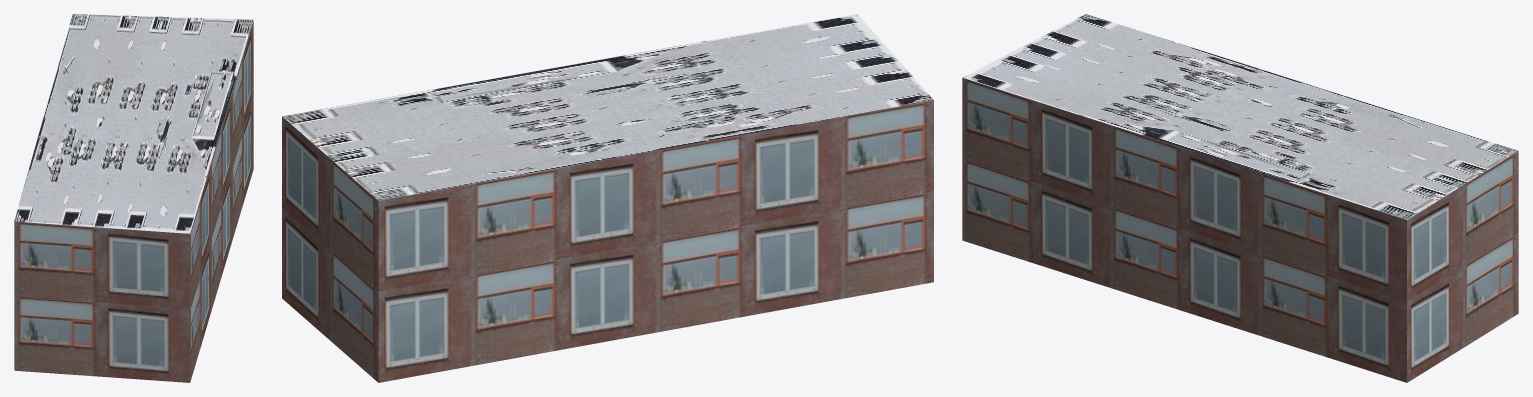
File: ResTex__1073.fbx
3 views of the same model, side by side, from view 1: azimuth 30°, elevation 25°; view 2: azimuth 150°, elevation 25°; view 3: azimuth 270°, elevation 25° (orthographic). The views are drawn at different scales.
Visible parts, largest first — view 1: CityEngineMaterial_15_m, CityEngineMaterial_19_m; view 2: CityEngineMaterial_19_m, CityEngineMaterial_15_m; view 3: CityEngineMaterial_19_m, CityEngineMaterial_15_m.
Boxes of the visible parts, <box> form: CityEngineMaterial_15_m: <box>14,14,253,233</box>; CityEngineMaterial_19_m: <box>14,21,253,382</box>; CityEngineMaterial_19_m: <box>282,100,933,382</box>; CityEngineMaterial_15_m: <box>282,14,933,200</box>; CityEngineMaterial_19_m: <box>962,78,1518,382</box>; CityEngineMaterial_15_m: <box>962,14,1518,219</box>.
Bounding box in the file's own units: 16.28 × 6 × 18.58.
Materials: 2 (2 with a texture image).
